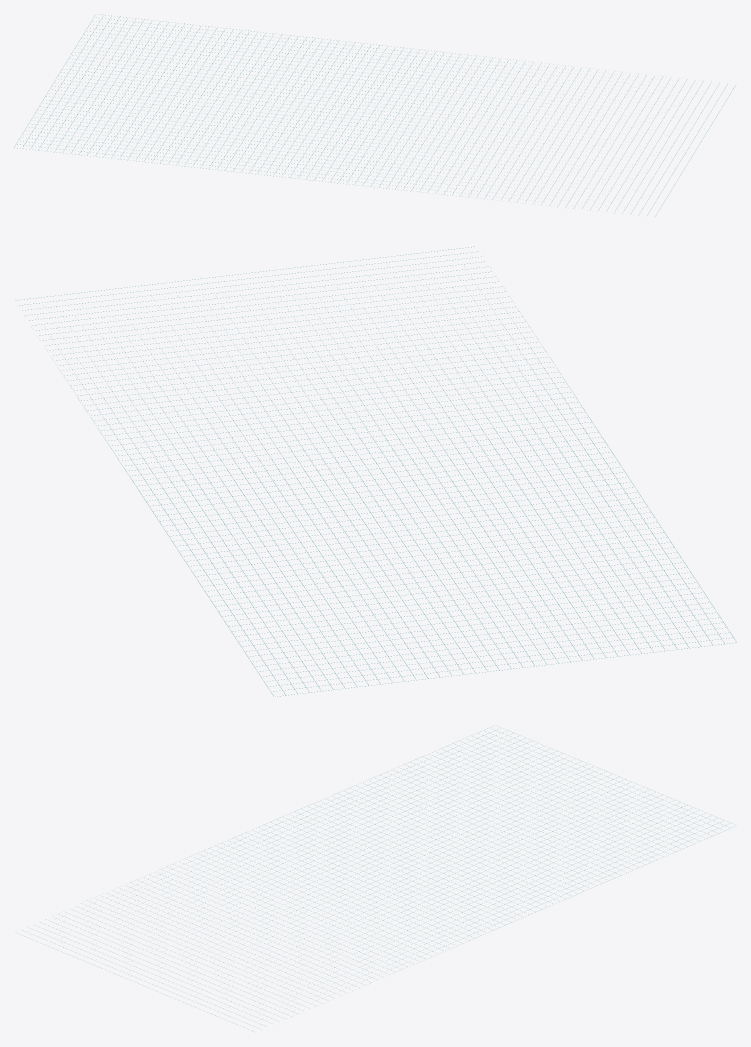
File: strips1.gltf
3 views of the same model, one above another, from view 1: azimuth 30°, elevation 25°; view 2: azimuth 150°, elevation 25°; view 3: azimuth 270°, elevation 25° (orthographic). The views are drawn at different scales.
Visible parts, largest first — view 1: Plane.001; view 2: Plane.001; view 3: Plane.001.
Part boxes in pixels (x1=…): Plane.001: x1=14, y1=14, x2=735, y2=216; Plane.001: x1=15, y1=246, x2=736, y2=696; Plane.001: x1=22, y1=725, x2=735, y2=1029.
Size of the model in its own units: 139 by 0 by 138.
